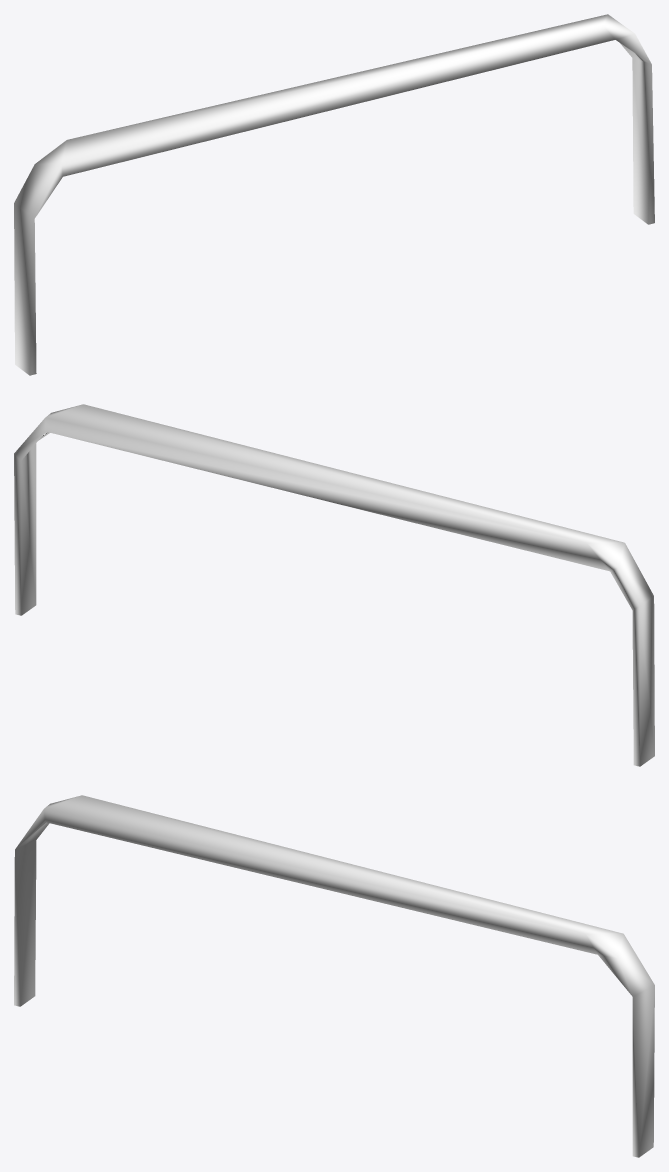
3 renders of one model, top to bottom at view 1: azimuth 30°, elevation 25°; view 2: azimuth 150°, elevation 25°; view 3: azimuth 330°, elevation 25°, orthographic.
Size of the model in its own units: 0.1736 by 0.0561 by 0.00862.
Materials: 1 (1 with a texture image).
